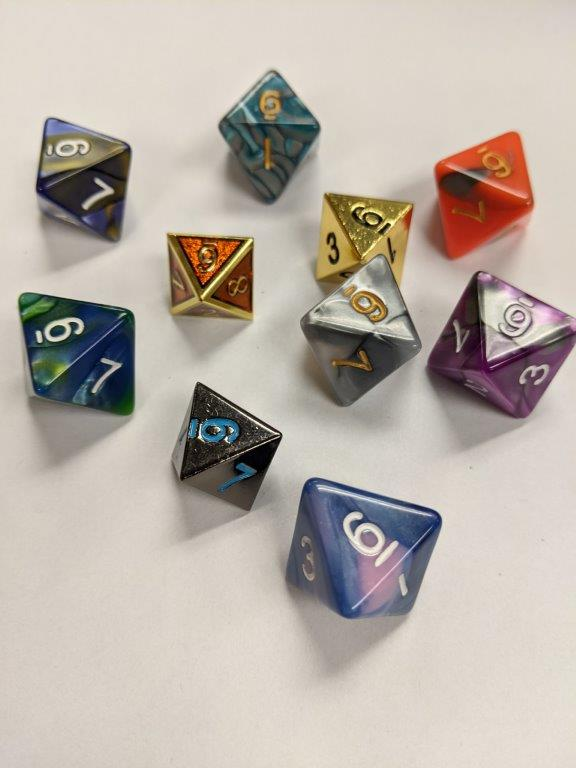d8-6: (424, 267, 576, 415), (285, 477, 442, 617), (300, 249, 422, 408), (17, 290, 138, 419), (170, 381, 286, 510), (216, 68, 320, 204), (432, 130, 536, 263), (36, 117, 137, 244), (317, 188, 414, 291), (167, 234, 256, 323)
